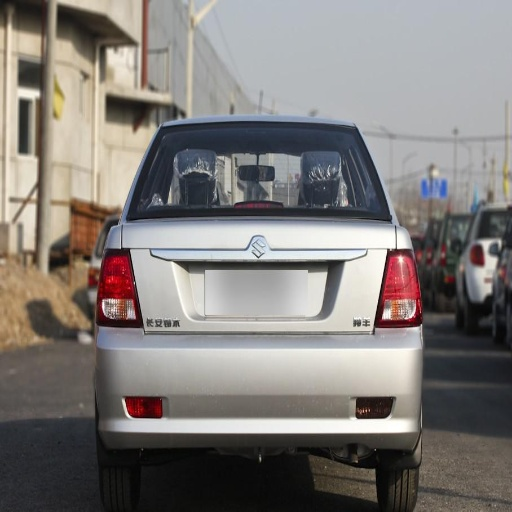back_bumper: (97, 327, 420, 458)
tailgate: (120, 212, 396, 336)
trunk: (124, 228, 207, 371)
